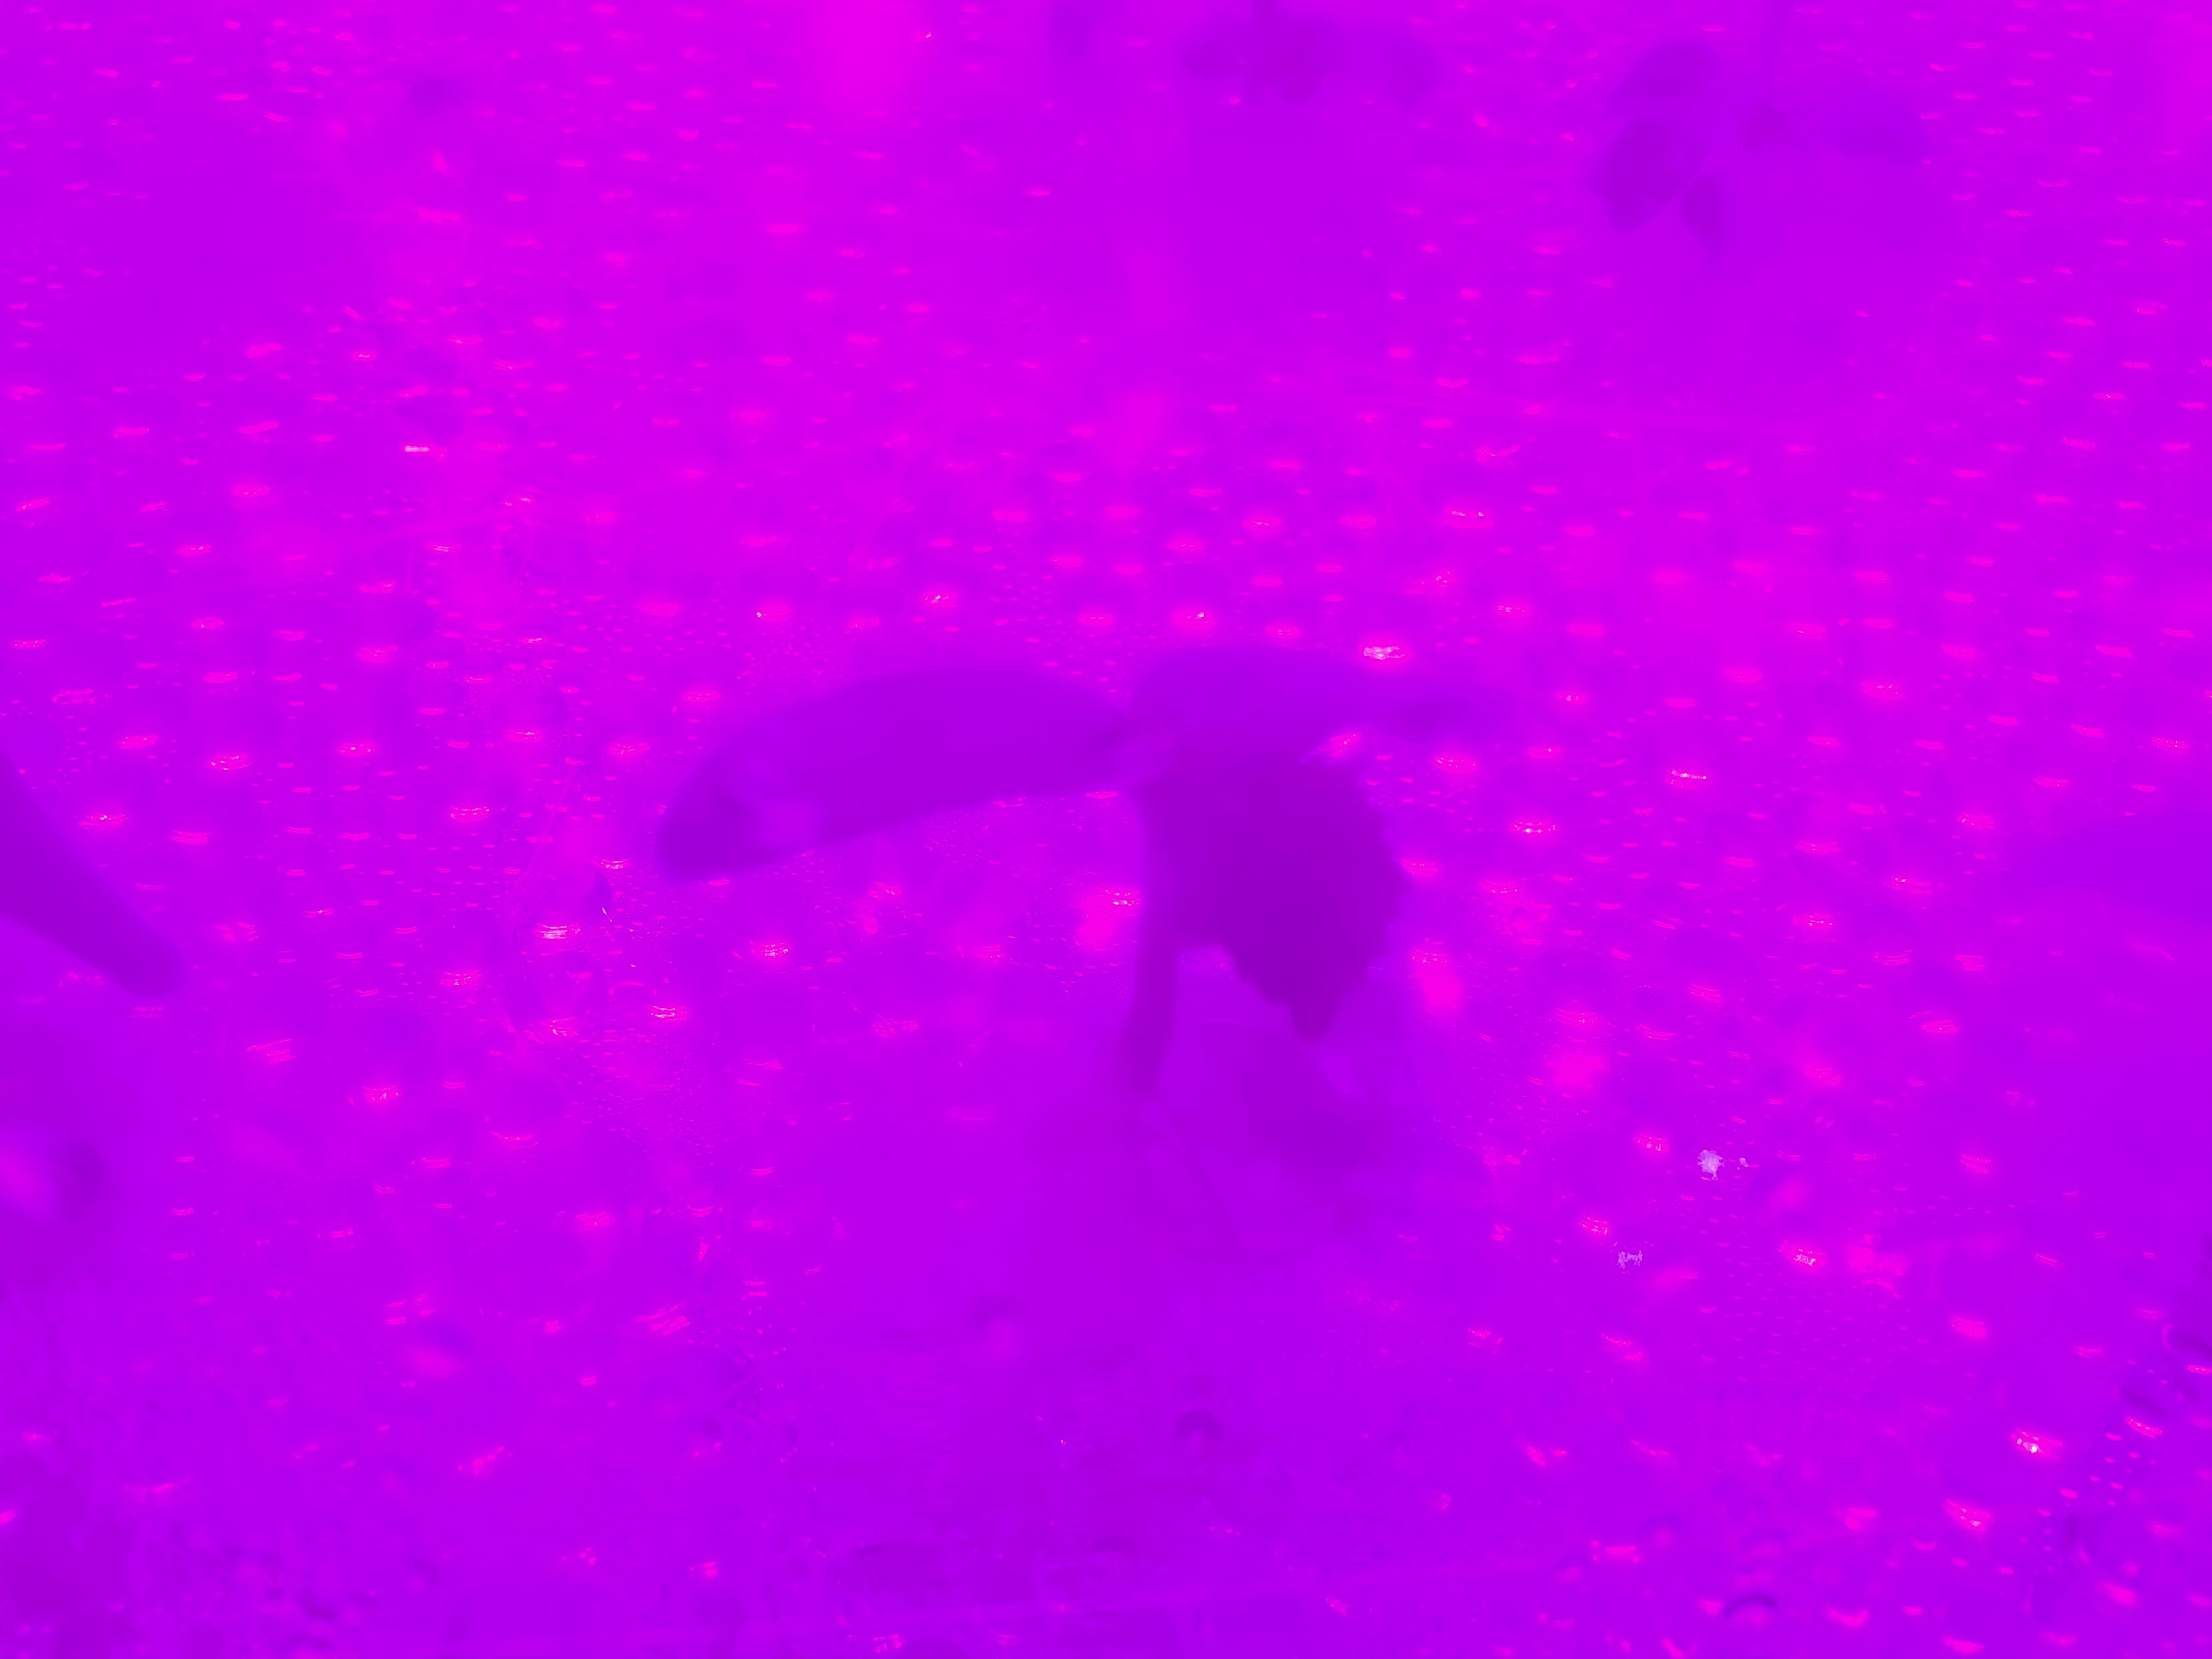lil_plant: (568, 525, 1552, 1239)
